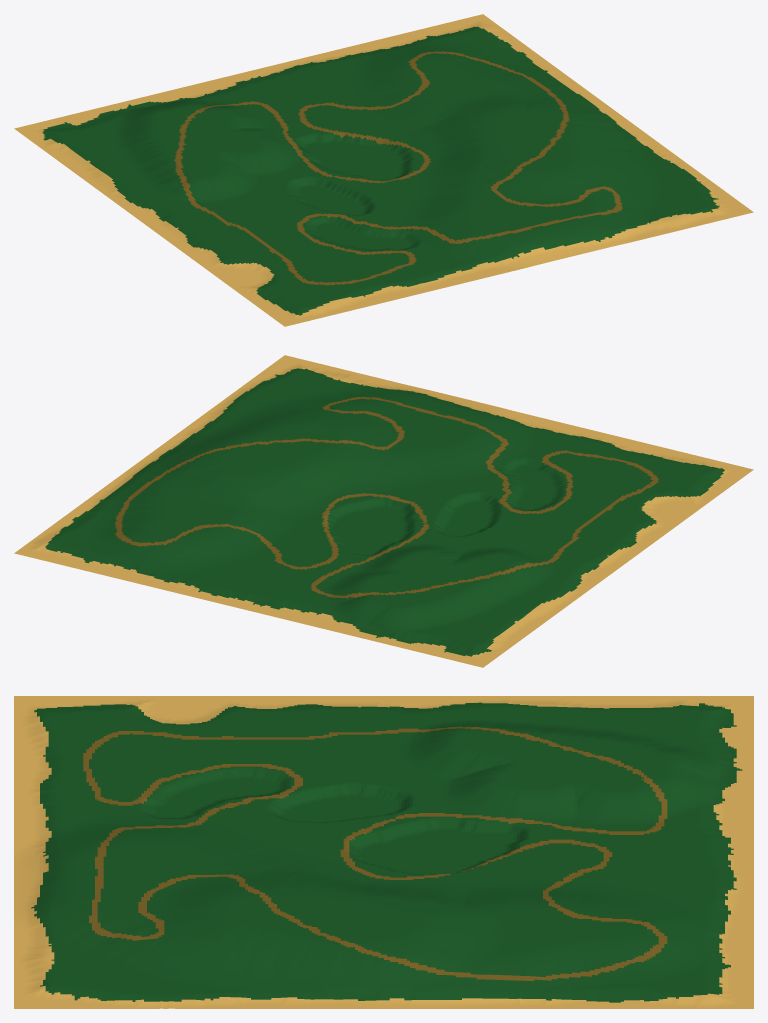
File: main_map.fbx
The picture shows the model from 3 angles, top to bottom: view 1: azimuth 30°, elevation 25°; view 2: azimuth 150°, elevation 25°; view 3: azimuth 270°, elevation 25°; orthographic projection. The views are drawn at different scales.
Parts seen in each view (by area): view 1: Plane, Plane.001, Plane.002; view 2: Plane, Plane.001, Plane.002; view 3: Plane, Plane.001, Plane.002.
Boxes of the visible parts, x1,y1,x2,y2 form: Plane: [42, 26, 719, 315]; Plane.001: [14, 14, 753, 326]; Plane.002: [174, 51, 622, 285]; Plane: [45, 368, 724, 656]; Plane.001: [14, 355, 753, 667]; Plane.002: [114, 396, 658, 598]; Plane: [31, 702, 742, 1002]; Plane.001: [14, 696, 753, 1008]; Plane.002: [83, 726, 667, 981].
Size of the model in its own units: 50000 by 1677 by 50000.
